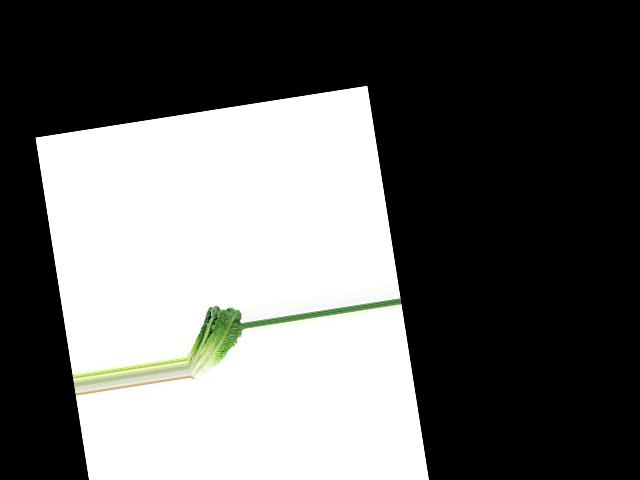lettuce: (179, 301, 249, 380)
